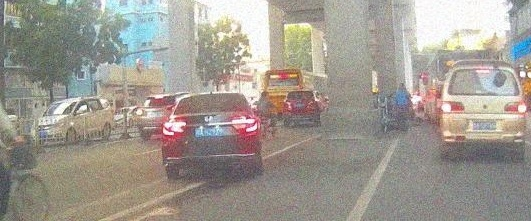L_light: (163, 122, 186, 136), (440, 103, 464, 112), (287, 102, 292, 111)
R_light: (232, 118, 258, 132), (504, 102, 526, 113), (307, 101, 313, 109)
T_light: (476, 69, 490, 73), (204, 109, 219, 112), (297, 92, 303, 94)
day-brake: (439, 59, 527, 160), (161, 93, 260, 179)
day-no: (283, 91, 316, 127)
